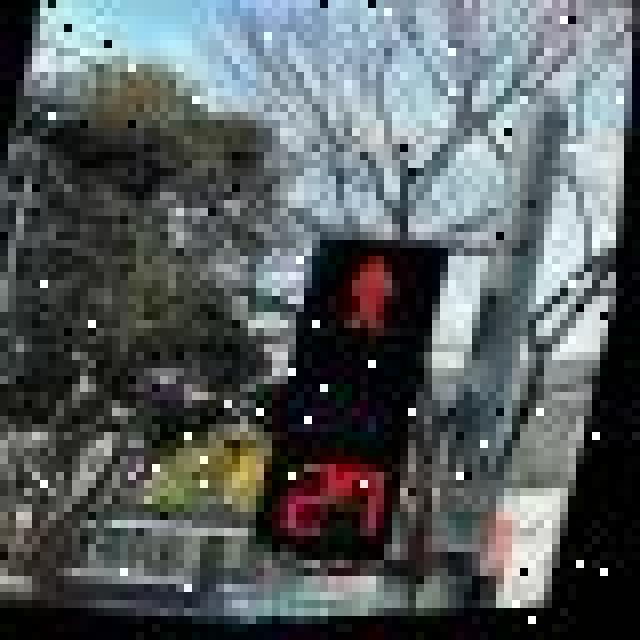redlight: (289, 230, 433, 445)
